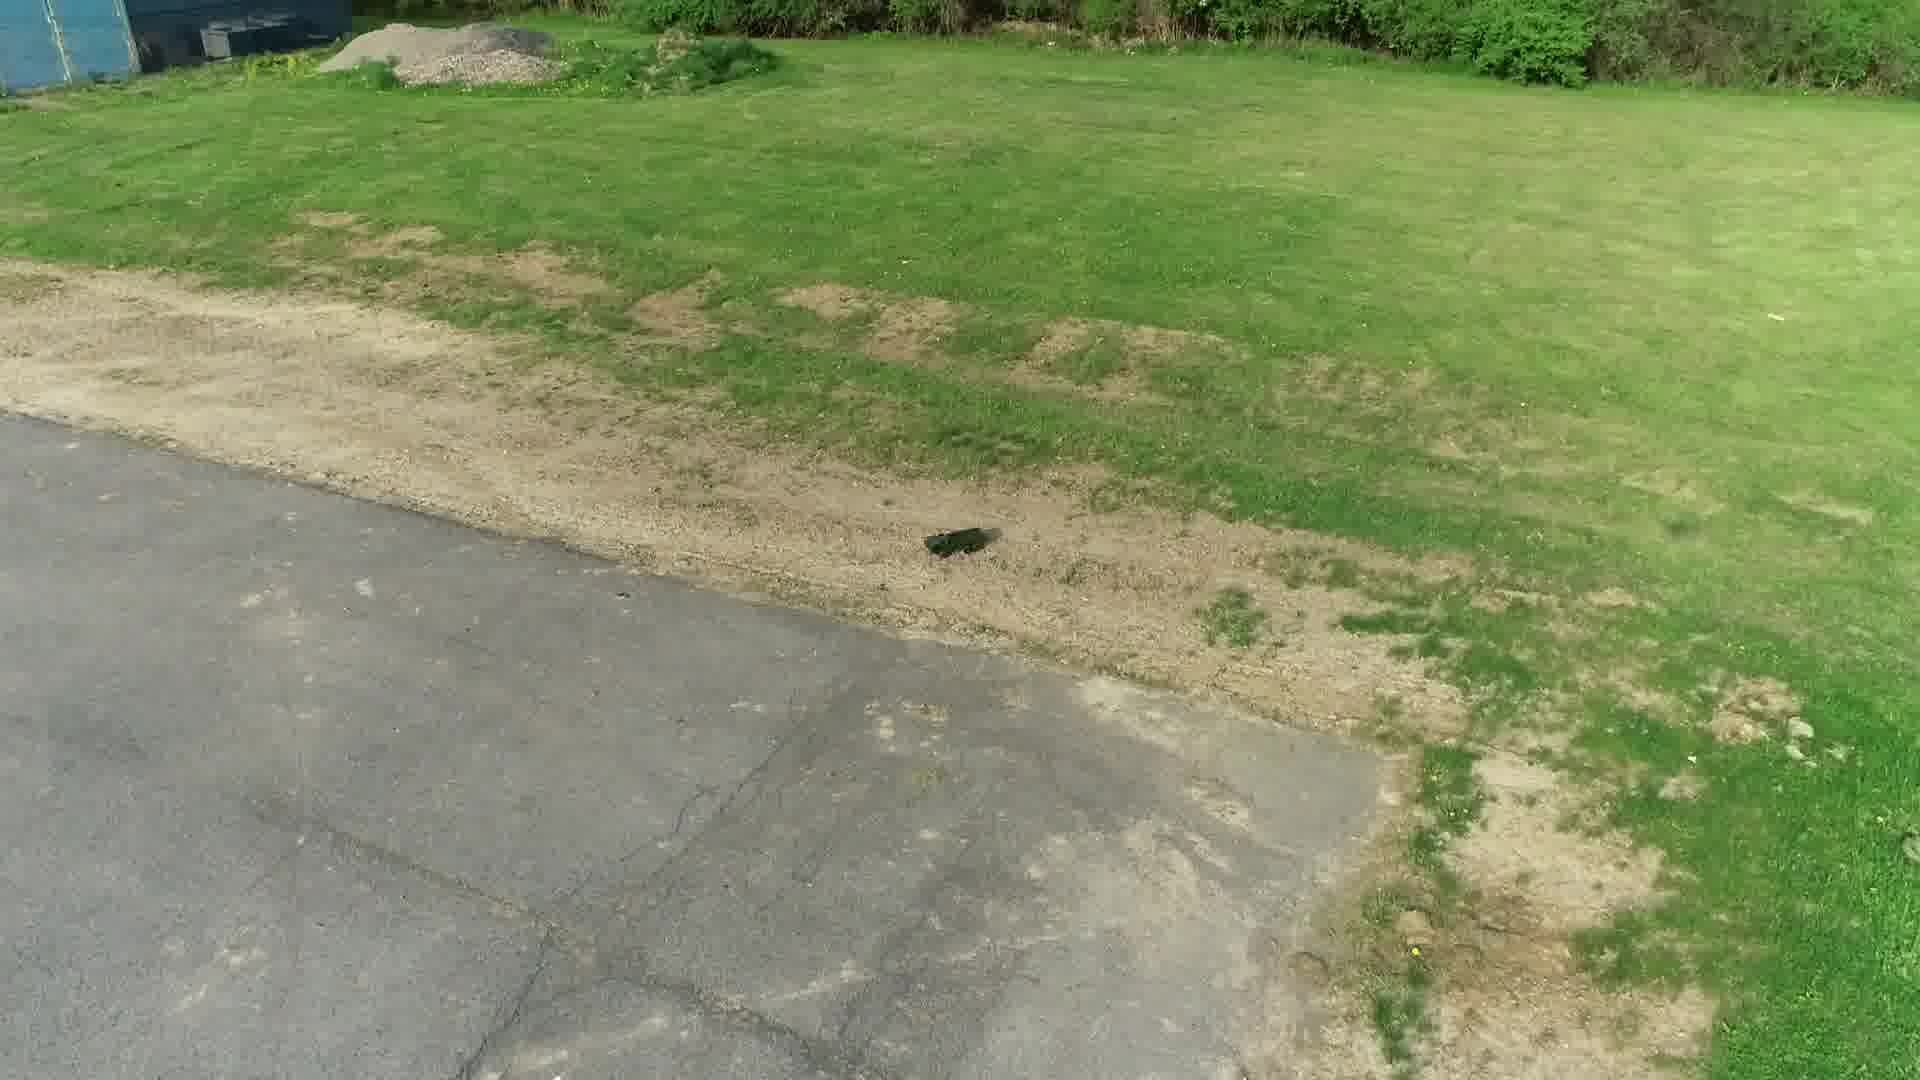transporter9: (922, 527, 992, 558)
